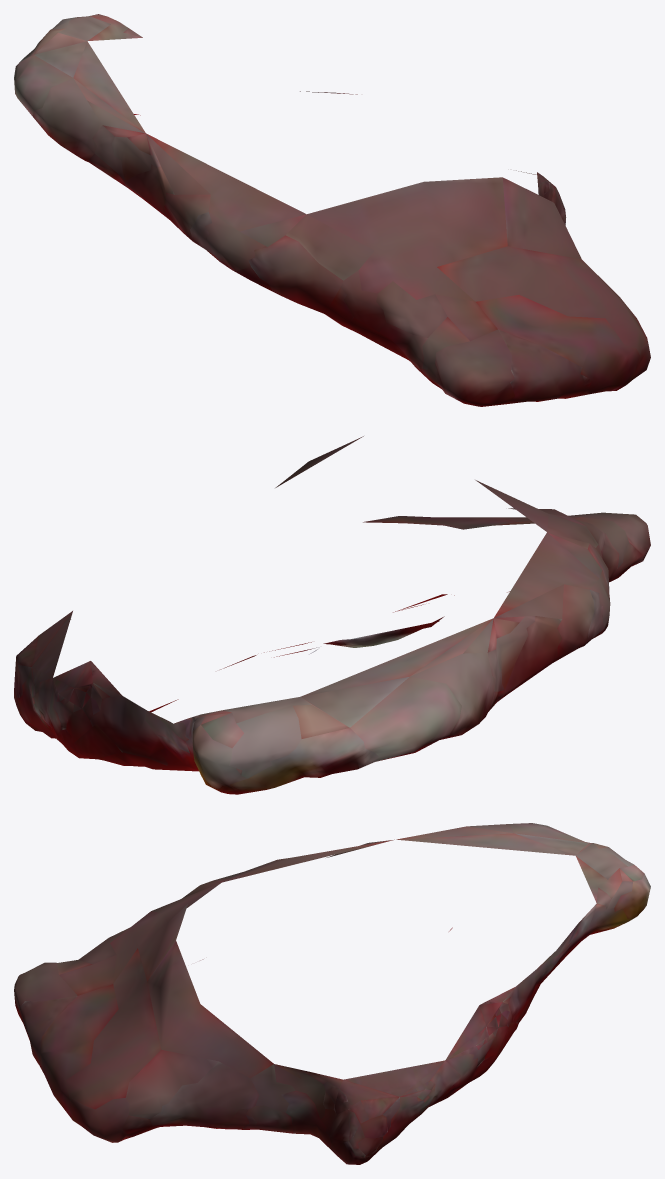
Rendered from hall.glb.
The picture shows the model from 3 angles, top to bottom: view 1: azimuth 30°, elevation 25°; view 2: azimuth 150°, elevation 25°; view 3: azimuth 270°, elevation 25°; orthographic projection. The views are drawn at different scales.
Size of the model in its own units: 0.489 by 0.2219 by 0.7153.
1 material, 1 textured.
